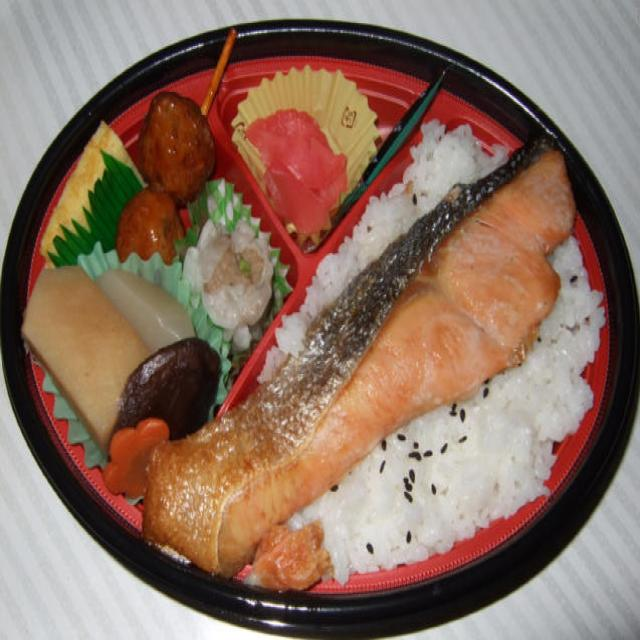熟制海鲜: (146, 119, 578, 622)
